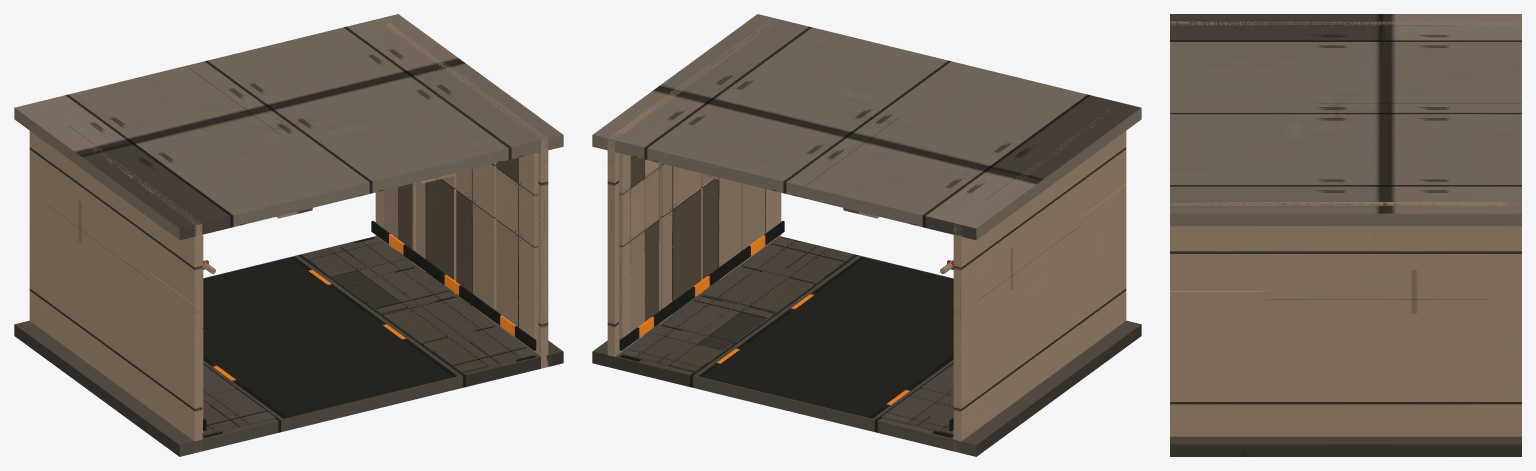
Rendered from hangar_koridor_demirhan.glb.
3 renders of one model, left to right at view 1: azimuth 30°, elevation 25°; view 2: azimuth 150°, elevation 25°; view 3: azimuth 270°, elevation 25°, orthographic. The views are drawn at different scales.
Visible parts, largest first — view 1: LOD0_koridor; view 2: LOD0_koridor; view 3: LOD0_koridor.
Boxes of the visible parts, box(x1,y1,x2,y2) form: LOD0_koridor: box(14, 14, 563, 456); LOD0_koridor: box(592, 14, 1141, 456); LOD0_koridor: box(1170, 14, 1521, 456).
Bounding box in the file's own units: 10.2 × 5.8 × 7.6.
Materials: 1 (1 with a texture image).
